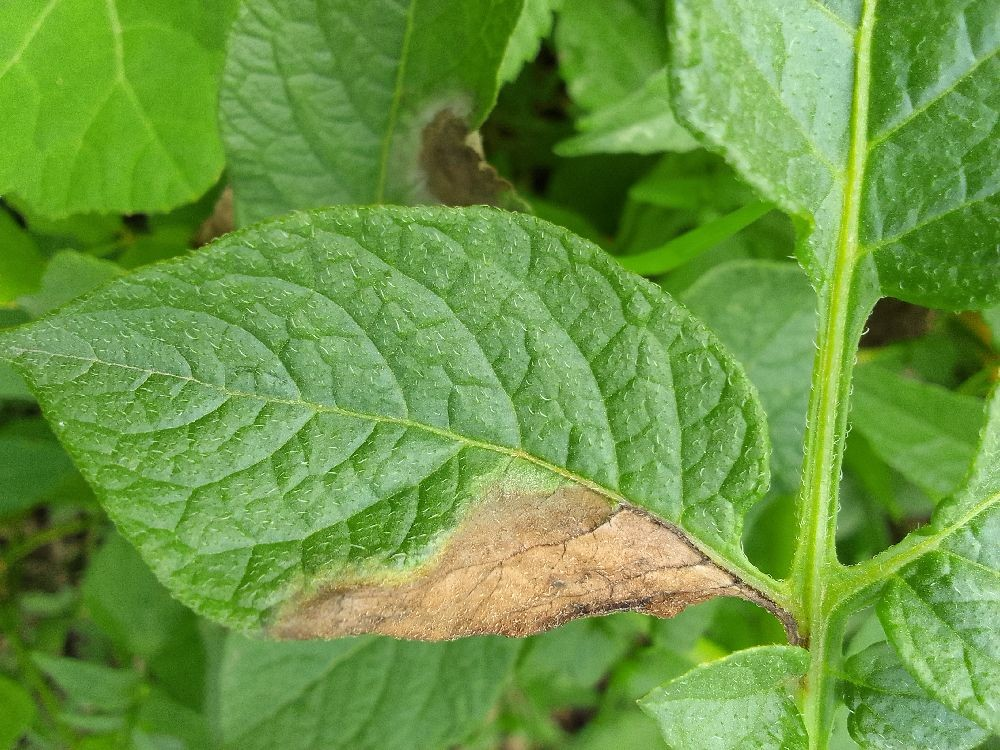late_blight: (208, 422, 874, 712), (404, 94, 520, 220), (0, 496, 108, 612), (849, 290, 948, 361)
